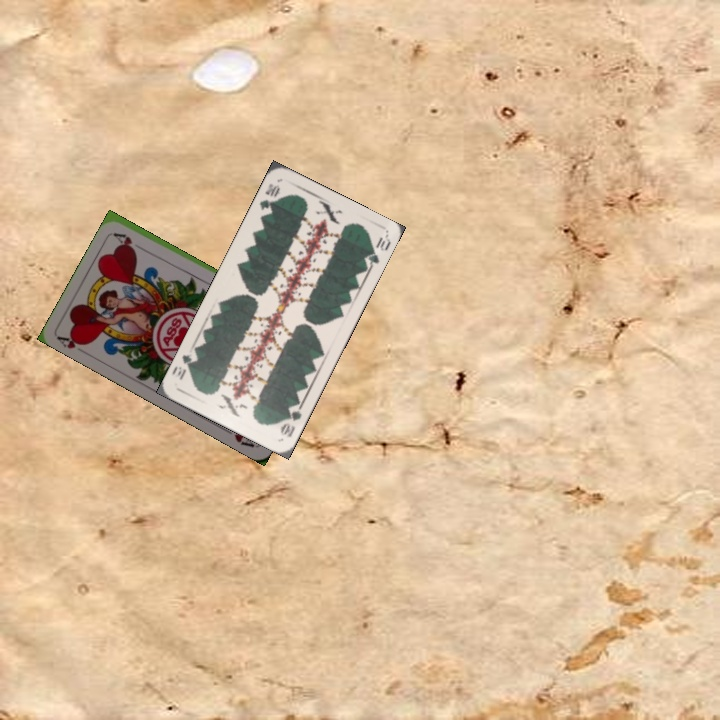G10: (276, 400, 304, 440), (255, 179, 283, 213)
HA: (54, 330, 92, 357)
